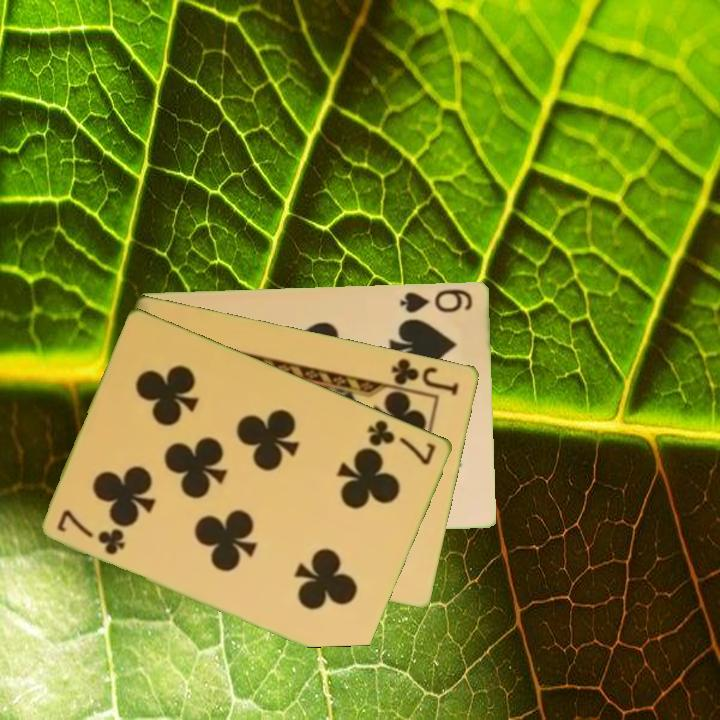6s: (397, 285, 475, 315)
7c: (54, 505, 129, 558), (364, 416, 440, 468)
Jc: (381, 354, 463, 398)
